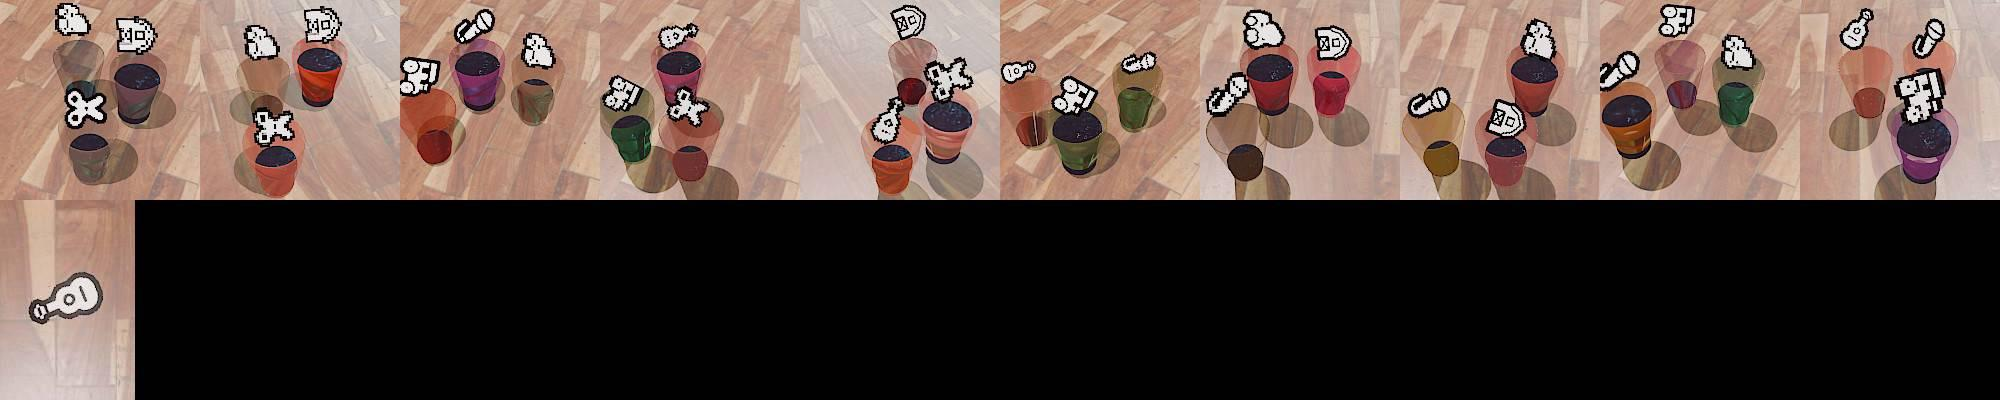icon: (23, 266, 106, 326), (1893, 68, 1946, 125), (62, 83, 108, 129), (1207, 71, 1253, 116), (926, 56, 973, 98), (251, 106, 296, 148), (1242, 9, 1286, 50), (1054, 75, 1099, 113), (1486, 97, 1528, 138), (1599, 50, 1642, 90), (666, 85, 709, 125), (1520, 18, 1559, 61), (301, 5, 342, 45), (602, 74, 644, 112), (399, 57, 441, 96), (115, 17, 156, 55), (1839, 8, 1875, 51), (1312, 23, 1351, 61), (1913, 17, 1948, 59), (1408, 85, 1452, 118), (871, 99, 904, 143), (1719, 33, 1758, 70), (244, 24, 281, 62), (520, 31, 556, 70), (55, 1, 93, 37), (658, 20, 700, 52), (890, 5, 927, 41), (1658, 4, 1695, 38), (458, 9, 495, 42), (1000, 59, 1037, 84), (1120, 50, 1157, 74)
